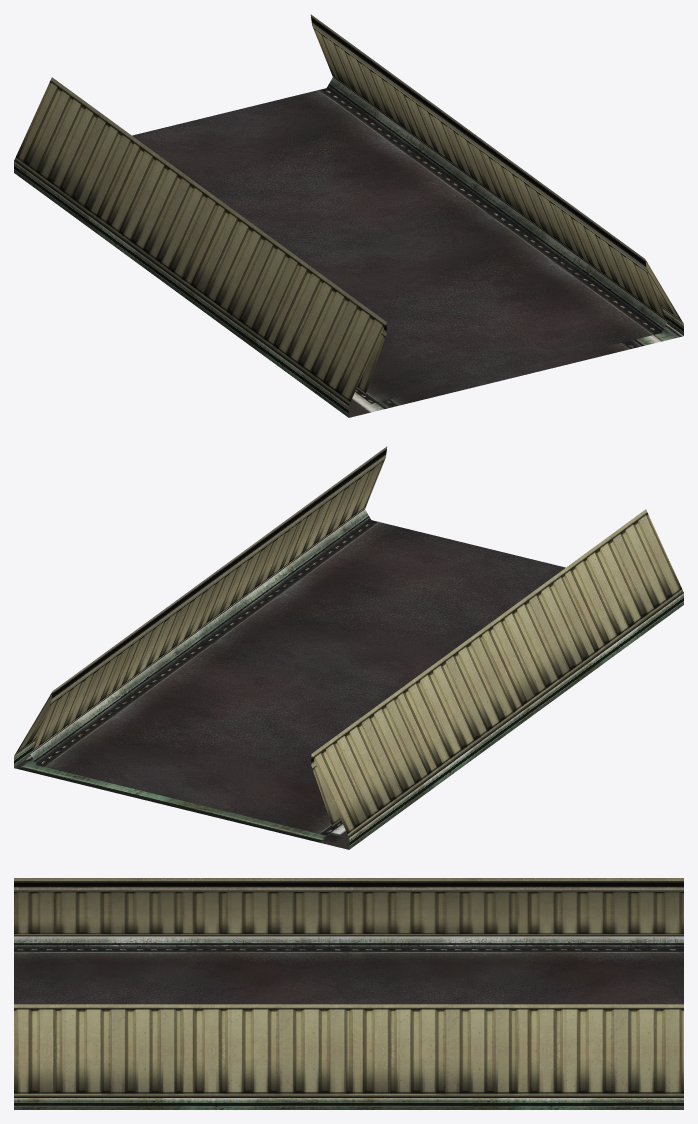
The model's file is Walled_Road.fbx.
3 renders of one model, top to bottom at view 1: azimuth 30°, elevation 25°; view 2: azimuth 150°, elevation 25°; view 3: azimuth 270°, elevation 25°, orthographic.
Parts seen in each view (by area): view 1: Walled_road; view 2: Walled_road; view 3: Walled_road.
Part boxes in pixels (left/top/right/bottom): Walled_road: left=14, top=14, right=683, bottom=417; Walled_road: left=14, top=446, right=683, bottom=849; Walled_road: left=14, top=878, right=683, bottom=1109.
Size of what is drawn, in the model's own units: 18.5 by 4.57 by 32.
